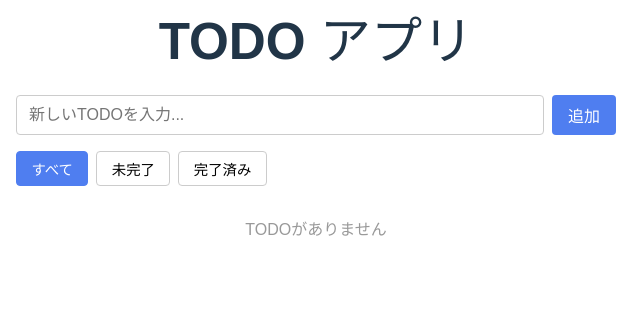
App (統合テスト) › active フィルターで未完了のみ表示される
Type "未完了TODO" into the field with placeholder "新しいTODOを入力..." at (280, 115), box [16,95,544,135]
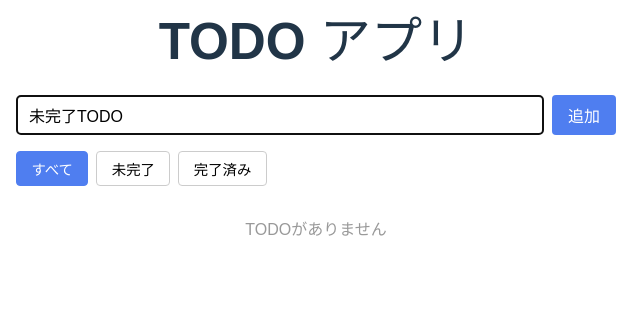
Click the button "追加" at (584, 115), box [552,95,616,135]
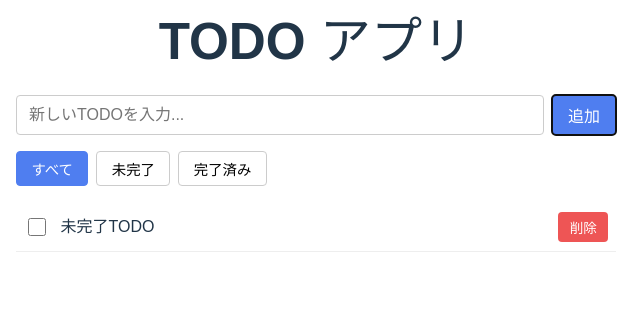
Type "完了済みTODO" into the field with placeholder "新しいTODOを入力..." at (280, 115), box [16,95,544,135]
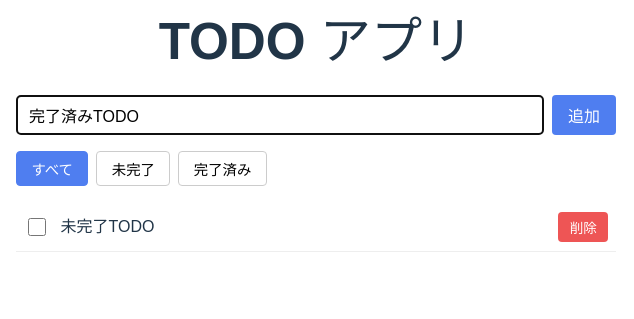
Click the button "追加" at (584, 115), box [552,95,616,135]
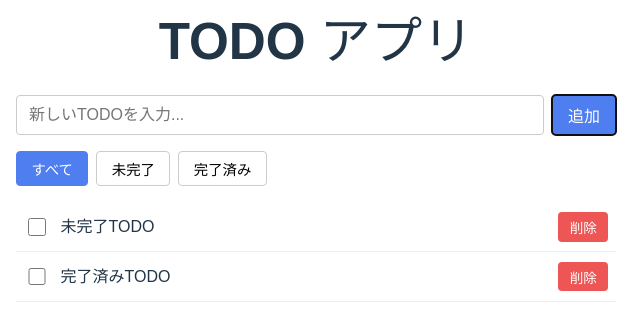
Click the checkbox next to "完了済みTODO" at (37, 277), box [28,268,46,285]
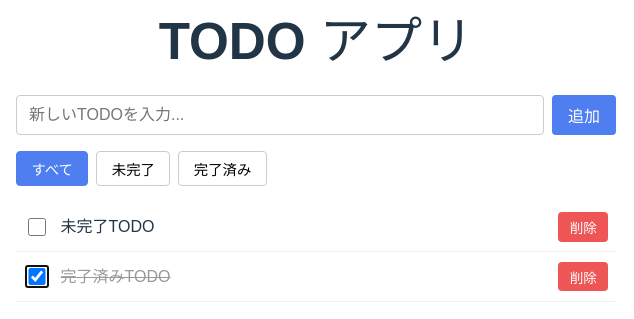
Click the button "未完了" at (133, 168), box [96,151,170,186]
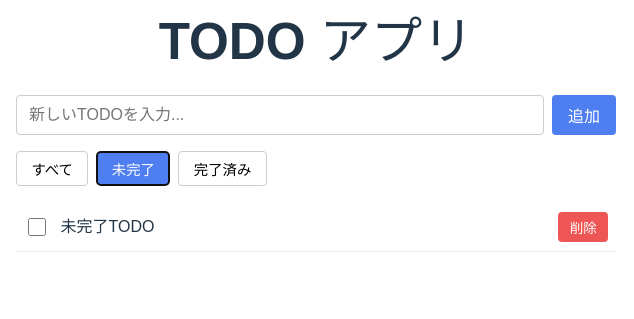
Now the text "未完了TODO" is shown, box [61,218,154,235]
Now the text "完了済みTODO" is gone
